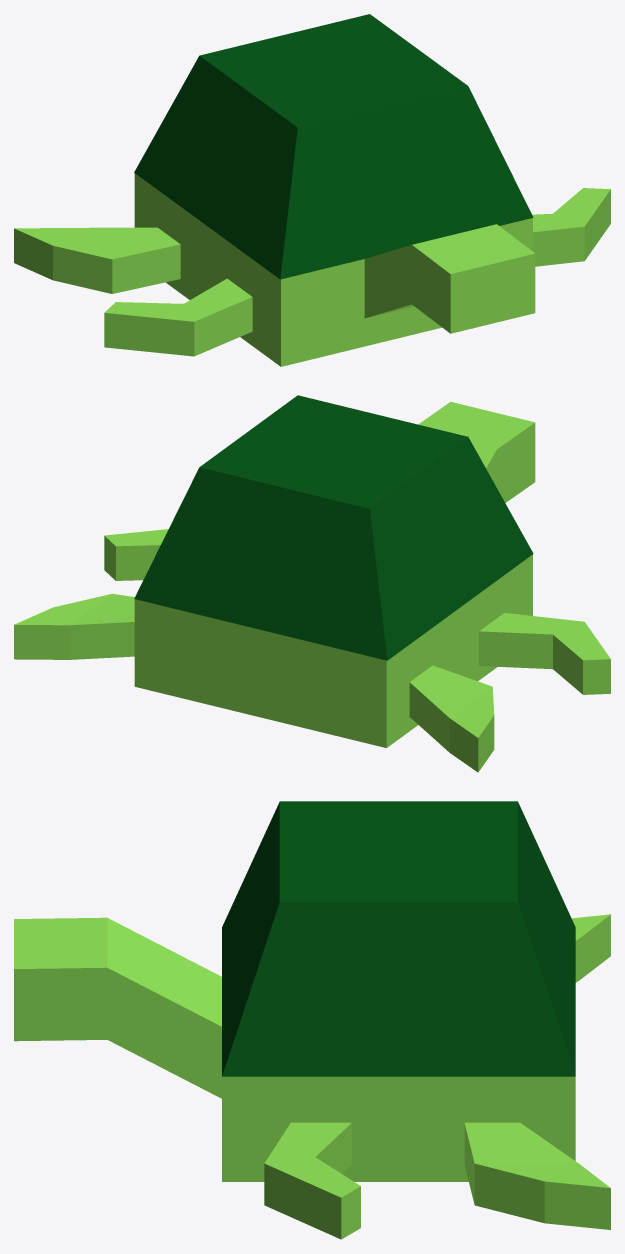
File: turtle.fbx
3 renders of one model, top to bottom at view 1: azimuth 30°, elevation 25°; view 2: azimuth 150°, elevation 25°; view 3: azimuth 270°, elevation 25°, orthographic. The views are drawn at different scales.
Visible parts, largest first — view 1: obj; view 2: obj; view 3: obj.
Part boxes in pixels (left/top/right/bottom): obj: left=14, top=14, right=610, bottom=366; obj: left=14, top=395, right=610, bottom=772; obj: left=14, top=801, right=610, bottom=1239.
Size of the model in its own units: 400 by 160 by 338.
